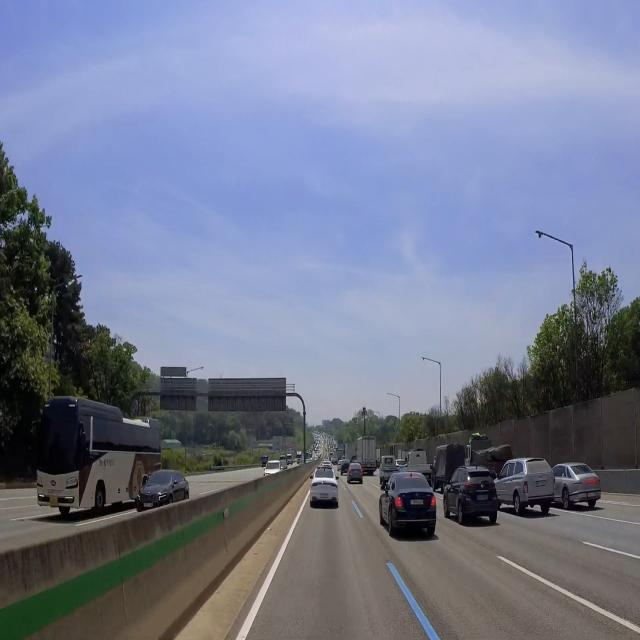car: (408, 496, 427, 510), (475, 491, 491, 505), (48, 493, 60, 508), (141, 500, 154, 509), (536, 479, 548, 488), (318, 493, 329, 502), (586, 491, 598, 499)
